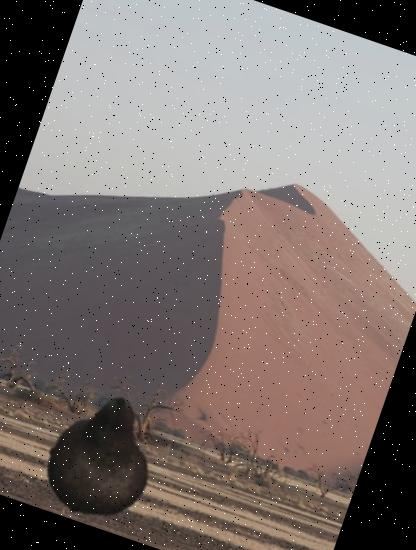Pear: (23, 377, 183, 537)
